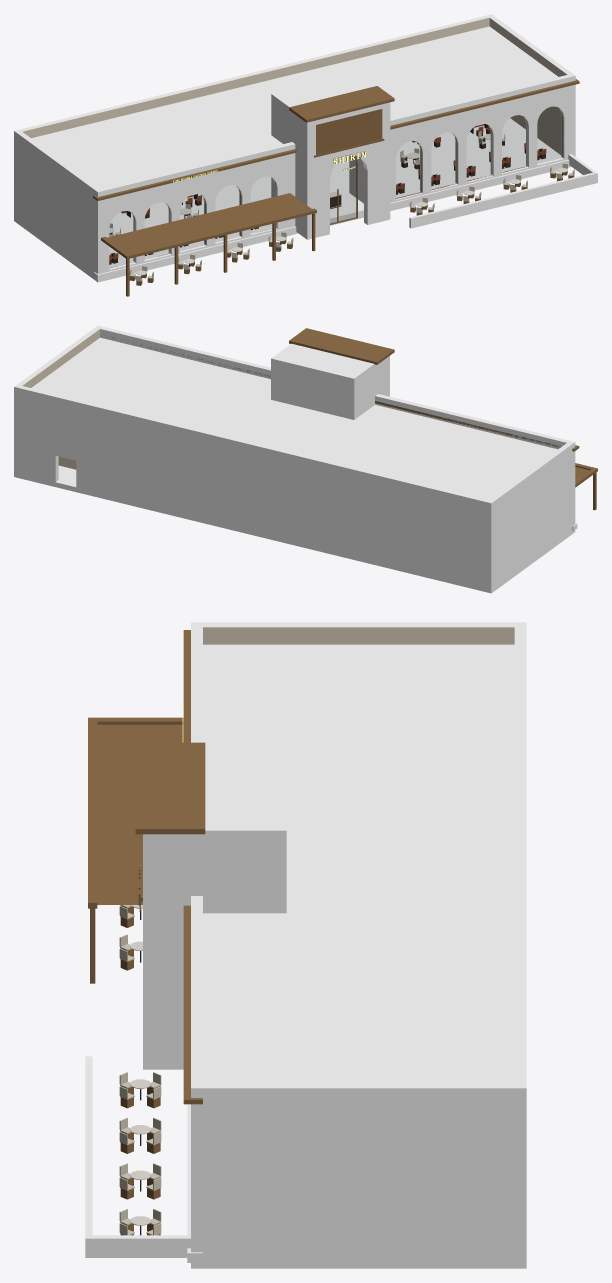
Rendered from shirin_restaurant_lod1.glb.
3 views of the same model, one above another, from view 1: azimuth 30°, elevation 25°; view 2: azimuth 150°, elevation 25°; view 3: azimuth 270°, elevation 25° (orthographic). The views are drawn at different scales.
Visible parts, largest first — view 1: P08_LOD1_BUILDING_EXTERIOR_Stone, P08_LOD1_BUILDING_EXTERIOR_Roof, P08_LOD1_GLASS_SYSTEM_ArchesGlass, P08_LOD1_BUILDING_INTERIOR_GroundSlab, P08_LOD1_FACADE_DETAILS_Terrace, P08_LOD1_FACADE_DETAILS_Bronze, P08_LOD1_FURNITURE_Dining, P08_LOD1_FACADE_DETAILS_Screen, P08_LOD1_FURNITURE_Terrace, P08_LOD1_GLASS_SYSTEM_PortalGlass, P08_LOD1_GLASS_SYSTEM_ArchesFrame; view 2: P08_LOD1_BUILDING_EXTERIOR_Stone, P08_LOD1_BUILDING_EXTERIOR_Roof, P08_LOD1_BUILDING_INTERIOR_GroundSlab, P08_LOD1_FACADE_DETAILS_Bronze, P08_LOD1_FACADE_DETAILS_Terrace; view 3: P08_LOD1_BUILDING_EXTERIOR_Roof, P08_LOD1_BUILDING_EXTERIOR_Stone, P08_LOD1_FACADE_DETAILS_Terrace, P08_LOD1_FACADE_DETAILS_Bronze, P08_LOD1_FURNITURE_Terrace, P08_LOD1_BUILDING_INTERIOR_GroundSlab.
Part boxes in pixels (left/top/right/bottom): P08_LOD1_BUILDING_EXTERIOR_Stone: left=14, top=14, right=575, bottom=279; P08_LOD1_BUILDING_EXTERIOR_Roof: left=14, top=26, right=575, bottom=206; P08_LOD1_GLASS_SYSTEM_ArchesGlass: left=110, top=107, right=562, bottom=267; P08_LOD1_BUILDING_INTERIOR_GroundSlab: left=14, top=118, right=571, bottom=282; P08_LOD1_FACADE_DETAILS_Terrace: left=101, top=154, right=597, bottom=296; P08_LOD1_FACADE_DETAILS_Bronze: left=93, top=79, right=579, bottom=200; P08_LOD1_FURNITURE_Dining: left=109, top=123, right=546, bottom=264; P08_LOD1_FACADE_DETAILS_Screen: left=316, top=109, right=382, bottom=155; P08_LOD1_FURNITURE_Terrace: left=129, top=163, right=574, bottom=285; P08_LOD1_GLASS_SYSTEM_PortalGlass: left=330, top=156, right=355, bottom=222; P08_LOD1_GLASS_SYSTEM_ArchesFrame: left=109, top=107, right=563, bottom=268; P08_LOD1_BUILDING_EXTERIOR_Stone: left=14, top=325, right=577, bottom=590; P08_LOD1_BUILDING_EXTERIOR_Roof: left=14, top=337, right=575, bottom=514; P08_LOD1_BUILDING_INTERIOR_GroundSlab: left=14, top=465, right=575, bottom=593; P08_LOD1_FACADE_DETAILS_Bronze: left=112, top=328, right=579, bottom=451; P08_LOD1_FACADE_DETAILS_Terrace: left=575, top=463, right=597, bottom=510; P08_LOD1_BUILDING_EXTERIOR_Roof: left=191, top=644, right=526, bottom=1116; P08_LOD1_BUILDING_EXTERIOR_Stone: left=143, top=622, right=526, bottom=1262; P08_LOD1_FACADE_DETAILS_Terrace: left=85, top=717, right=190, bottom=1257; P08_LOD1_FACADE_DETAILS_Bronze: left=135, top=630, right=205, bottom=1104; P08_LOD1_FURNITURE_Terrace: left=119, top=905, right=161, bottom=1235; P08_LOD1_BUILDING_INTERIOR_GroundSlab: left=191, top=1259, right=526, bottom=1268.
Bounding box in the file's own units: 46.4 × 11.5 × 18.4.
